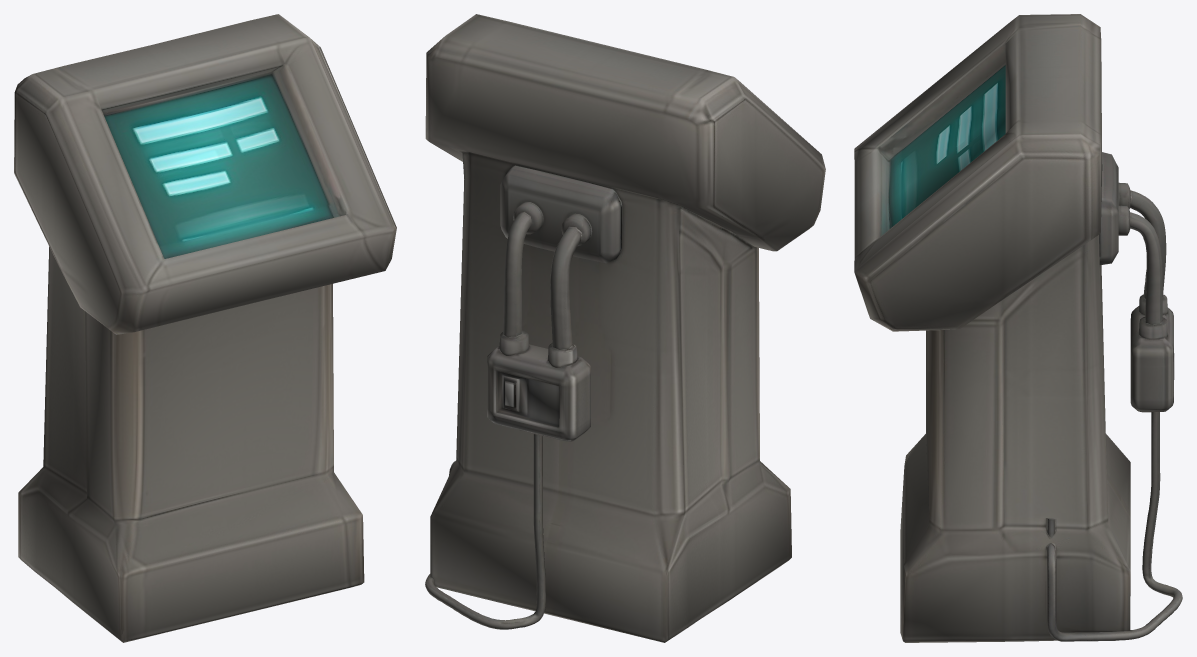
Rendered from ActivationPanel.fbx.
3 renders of one model, left to right at view 1: azimuth 30°, elevation 25°; view 2: azimuth 150°, elevation 25°; view 3: azimuth 270°, elevation 25°, orthographic. The views are drawn at different scales.
Visible parts, largest first — view 1: tripo_node_f1517213; view 2: tripo_node_f1517213; view 3: tripo_node_f1517213.
Part boxes in pixels (left/top/right/bottom): tripo_node_f1517213: left=14, top=14, right=396, bottom=642; tripo_node_f1517213: left=425, top=14, right=825, bottom=642; tripo_node_f1517213: left=854, top=14, right=1182, bottom=642.
Size of the model in its own units: 0.5649 by 0.9995 by 0.5796.
